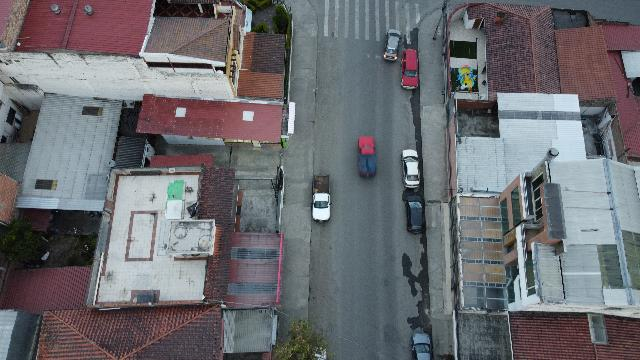Vehiculo: (405, 195, 425, 233), (358, 137, 376, 177), (402, 150, 420, 188), (402, 49, 418, 89), (312, 192, 332, 222), (383, 29, 401, 61), (412, 332, 432, 360)
